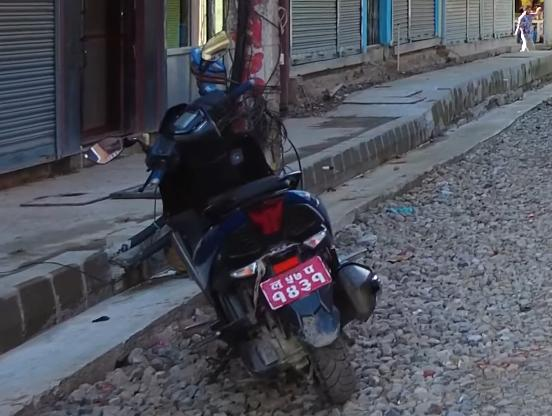scooter: (74, 24, 396, 416)
